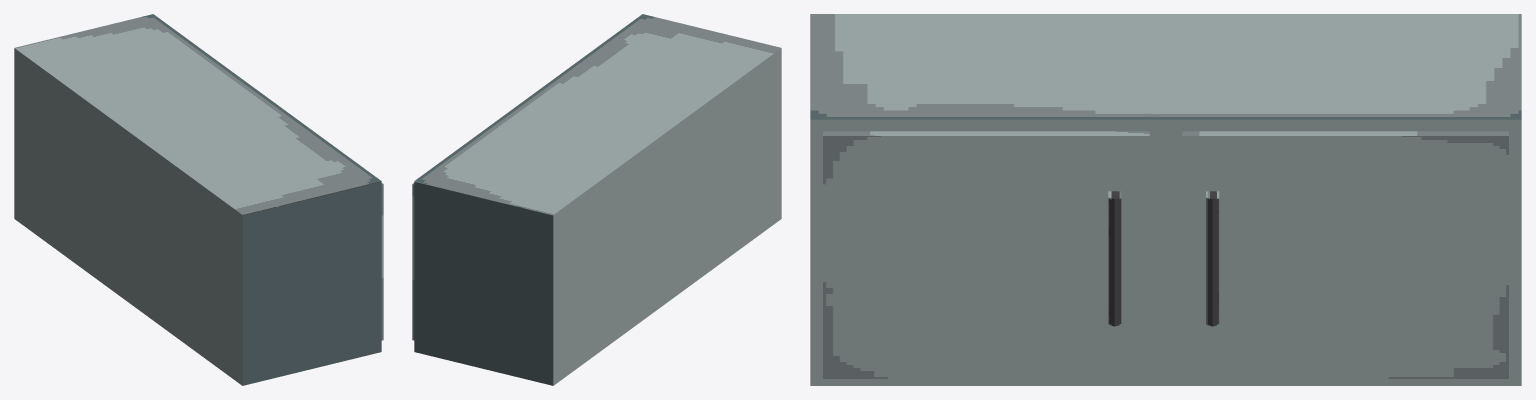
File: Armarin de tetoquasepronto.fbx
3 renders of one model, left to right at view 1: azimuth 30°, elevation 25°; view 2: azimuth 150°, elevation 25°; view 3: azimuth 270°, elevation 25°, orthographic. The views are drawn at different scales.
Parts seen in each view (by area): view 1: Cube, Cube.001; view 2: Cube, Cube.001; view 3: Cube, Cube.001.
Boxes of the visible parts, box(x1,y1,x2,y2) form: Cube: box(14, 48, 383, 385); Cube.001: box(15, 14, 380, 214); Cube: box(412, 48, 781, 385); Cube.001: box(415, 14, 780, 214); Cube: box(810, 119, 1521, 385); Cube.001: box(810, 14, 1521, 119).
Bounding box in the file's own units: 234 × 246 × 596.
1 material, 1 textured.
